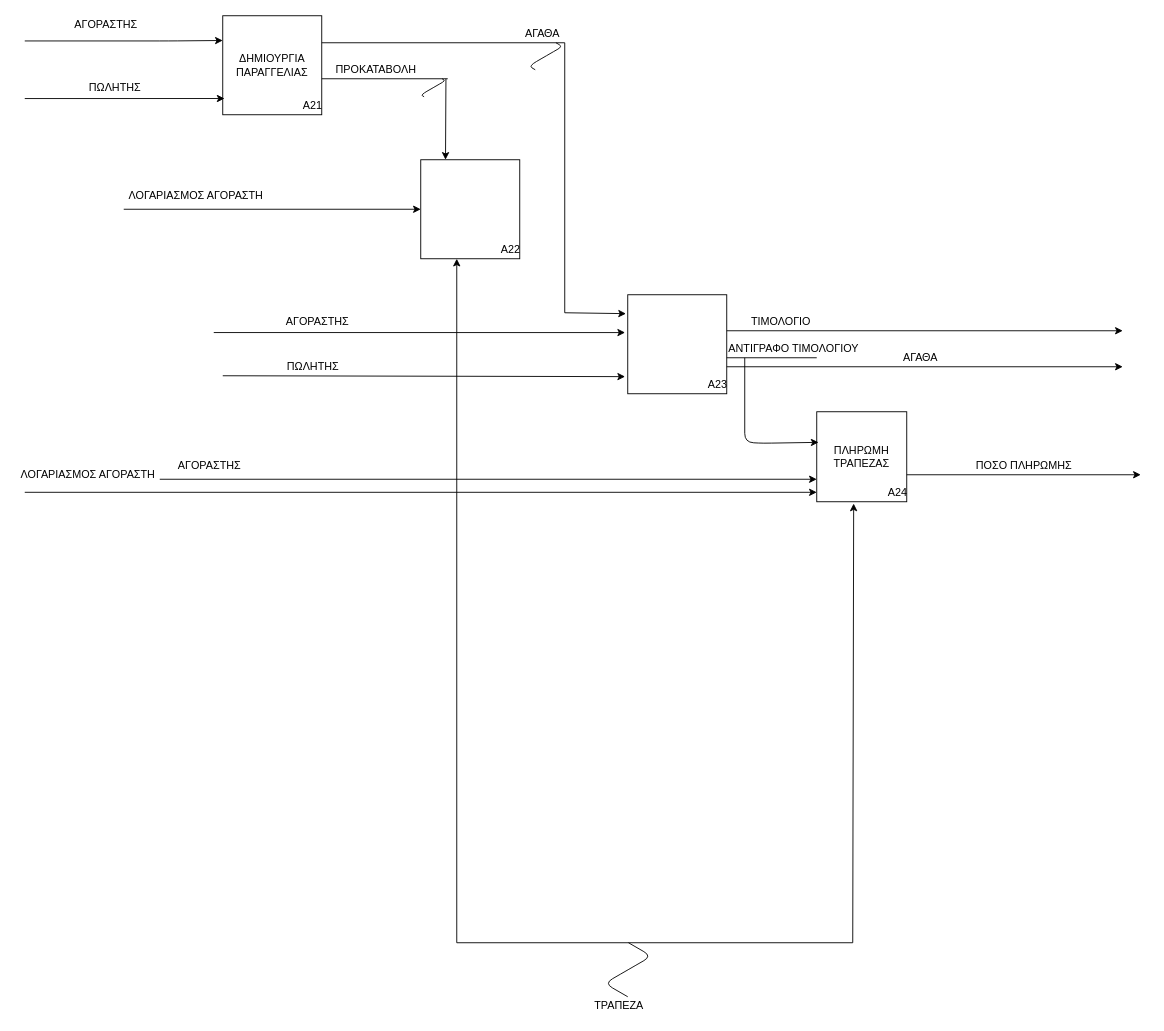
This 1164x1031 diagram has some shape labels left out. Here are the shapes that lost their labels. From the top down, the box of each, then its label:
(420, 159, 520, 259): ΕΝΤΟΛΗ ΠΛΗΡΩΜΗΣ
(627, 294, 727, 394): ΠΑΡΑΛΑΒΗ ΠΑΡΑΓΓΕΛΙΑΣ
